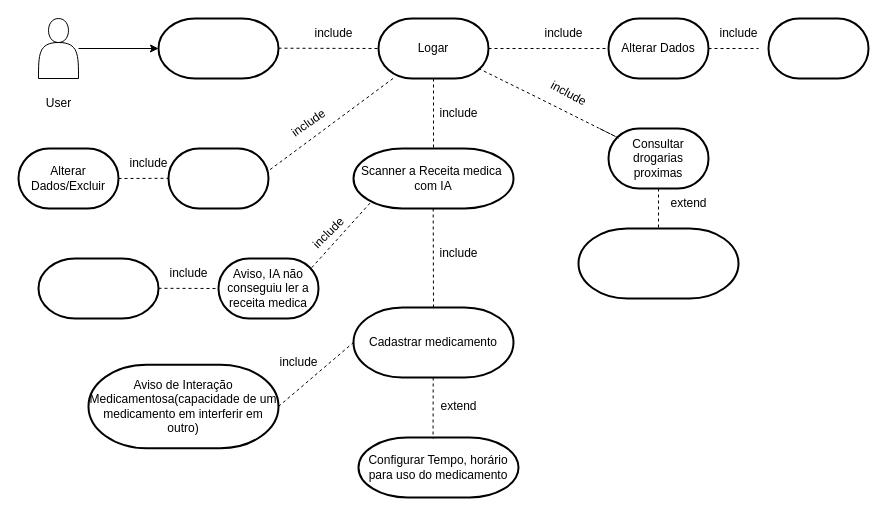
Image size: 886x515. Some labels were removed from this diagram. The shapes that lost their labels are listed below. From the top down, each one's centre as x and y in pixels, then its label:
At [218,48]: "Cadastrar/Usuario".
At [818,48]: "Excluir Conta".
At [218,178]: "Consultar medicamentos cadastrados".
At [658,263]: "Guia informático de como conseguir medicamentos gratuitos".
At [98,288]: "Procure uma farmácia para assistência com a receita medica".
